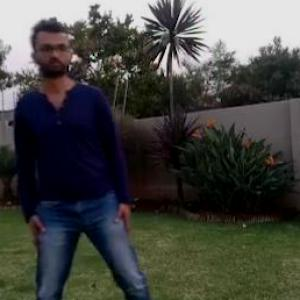follow: (12, 16, 124, 299)
